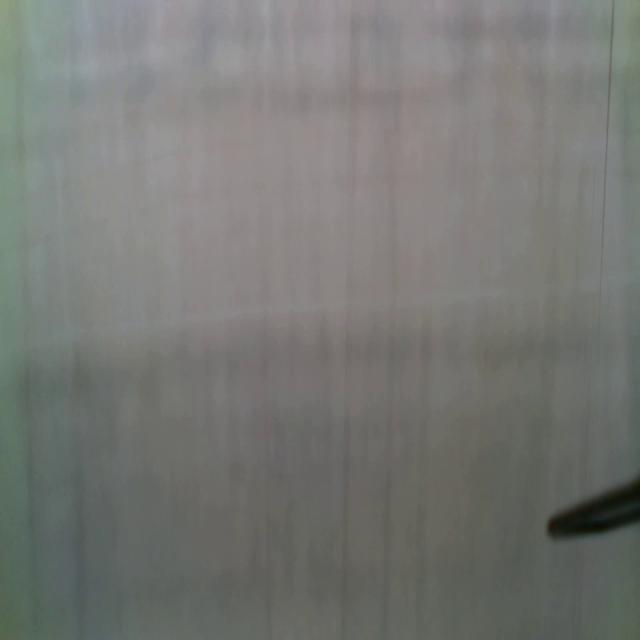color bleeding: (3, 298, 640, 402)
crease: (596, 0, 616, 356)
